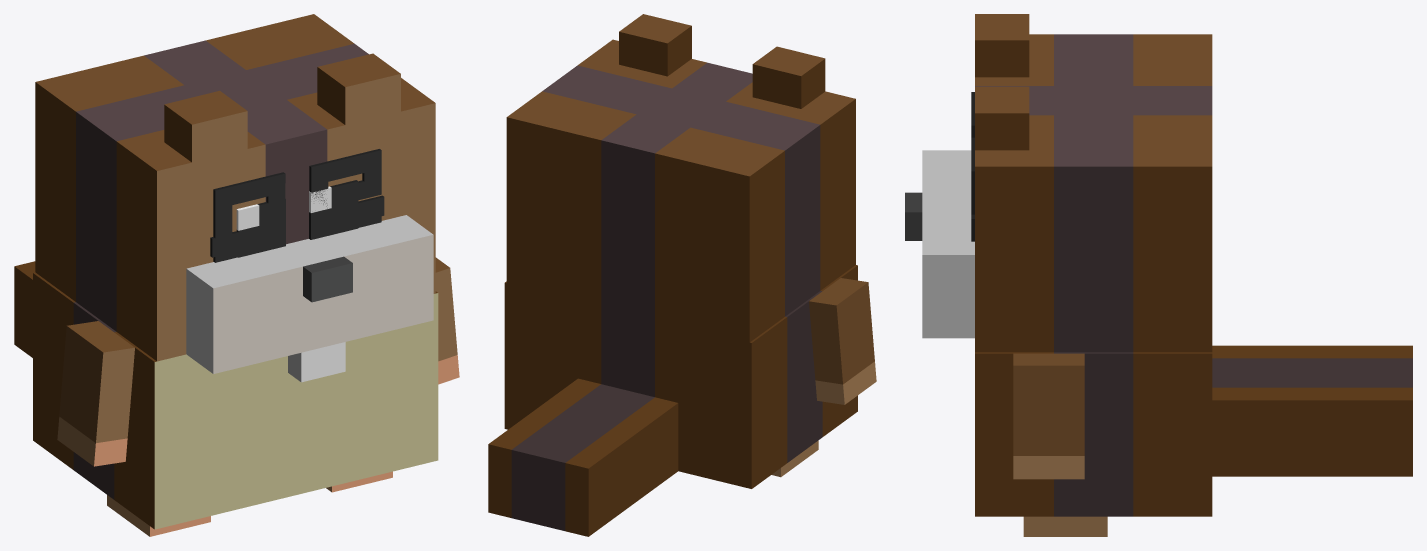
3 views of the same model, side by side, from view 1: azimuth 30°, elevation 25°; view 2: azimuth 150°, elevation 25°; view 3: azimuth 270°, elevation 25° (orthographic). The views are drawn at different scales.
Parts seen in each view (by area): view 1: Ch_184_Head, Ch_184, Ch_184_Arm_L, Ch_184_Eye_01, Ch_184_Eye_03_R, Ch_184_Eye_03_L, Ch_184_Arm_R, Ch_184_Tail, Ch_184_Eye_02, Ch_184_Leg_L; view 2: Ch_184_Head, Ch_184, Ch_184_Tail, Ch_184_Arm_L; view 3: Ch_184_Head, Ch_184, Ch_184_Tail, Ch_184_Arm_R, Ch_184_Leg_R.
Boxes of the visible parts, x1,y1,x2,y2 form: Ch_184_Head: (35, 14, 435, 382); Ch_184: (33, 272, 438, 529); Ch_184_Arm_L: (57, 321, 134, 466); Ch_184_Eye_01: (236, 180, 358, 257); Ch_184_Eye_03_R: (309, 149, 381, 227); Ch_184_Eye_03_L: (213, 172, 285, 262); Ch_184_Arm_R: (435, 257, 459, 384); Ch_184_Tail: (14, 261, 35, 357); Ch_184_Eye_02: (210, 195, 384, 257); Ch_184_Leg_L: (107, 495, 210, 536); Ch_184_Head: (506, 14, 855, 342); Ch_184: (504, 265, 857, 488); Ch_184_Tail: (488, 378, 678, 536); Ch_184_Arm_L: (809, 278, 876, 404); Ch_184_Head: (905, 14, 1212, 352); Ch_184: (975, 352, 1212, 516); Ch_184_Tail: (1212, 345, 1412, 476); Ch_184_Arm_R: (1013, 353, 1084, 479); Ch_184_Leg_R: (1023, 516, 1107, 536).
Bounding box in the file's own units: 8.7 × 9.69 × 10.73.
